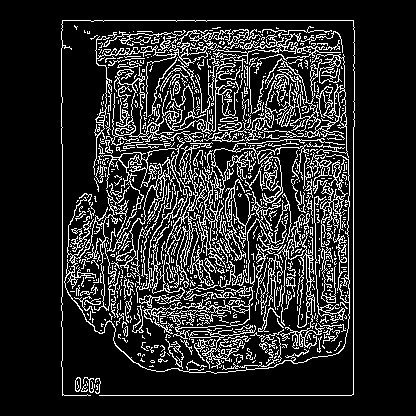buddha-pyre: (115, 182, 194, 240)
